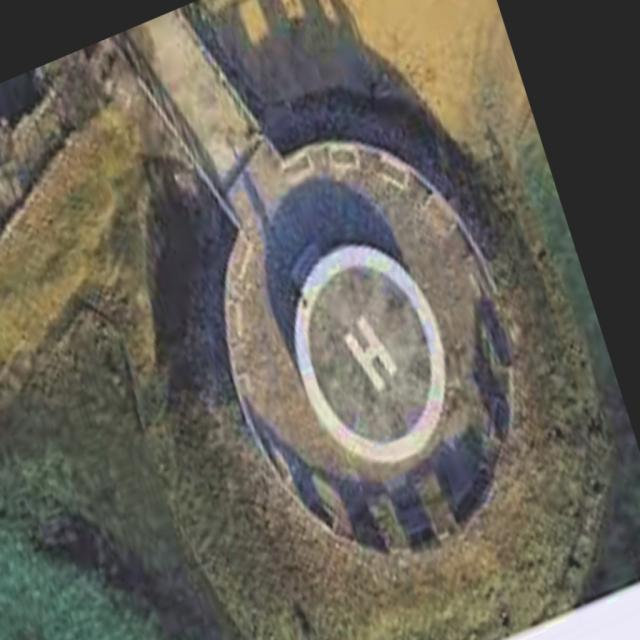helipad: (288, 240, 450, 466)
